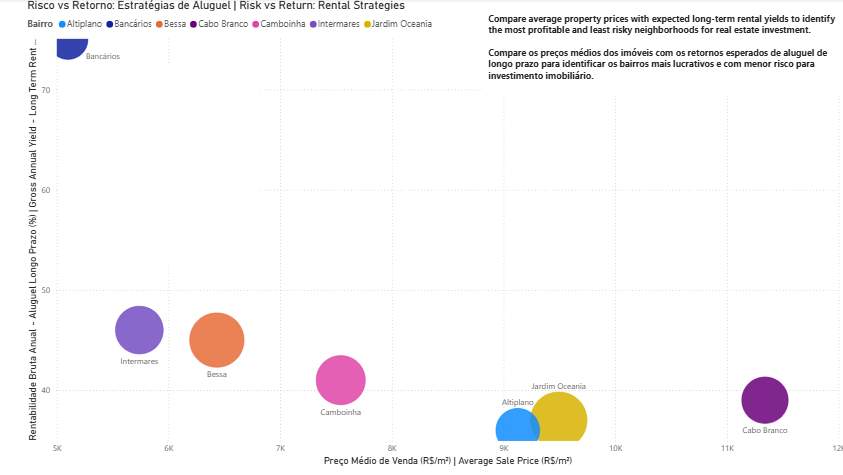

What the dashboard file says about the page in this screenshot:
{"tool":"powerbi","page":{"name":"Page 2","canvas":[1280,720],"ordinal":1},"visuals":[{"type":"scatterChart","title":"Risco vs Retorno: Estratégias de Aluguel | Risk vs Return: Rental Strategies","fields":{"X":["Avg(investment_analysis.Preco_Medio_Venda_R$_m2)"],"Y":["Avg(investment_analysis.Yield_Bruto_Anual_Longo_Prazo_Percent)"],"Series":["quality_of_life_index.Bairro"],"Size":["Sum(investment_analysis.Valorizacao_Anual_Media_Percent)"]},"box":[48,0,1232,704],"z":0},{"type":"textbox","box":[100,100,300,300],"z":1000},{"type":"textbox","box":[736,16,544,128],"z":2000}]}

Visuals, with their boxes in screenshot pixels (x1, y1, x2, y2), scaled from the page's 1280x720 canvas onto the 843x475 screenshot:
"Risco vs Retorno: Estratégias de Aluguel | Risk vs Return: Rental Strategies" scatterChart: <region>32, 0, 842, 464</region>
textbox: <region>66, 66, 263, 264</region>
textbox: <region>485, 11, 842, 95</region>
